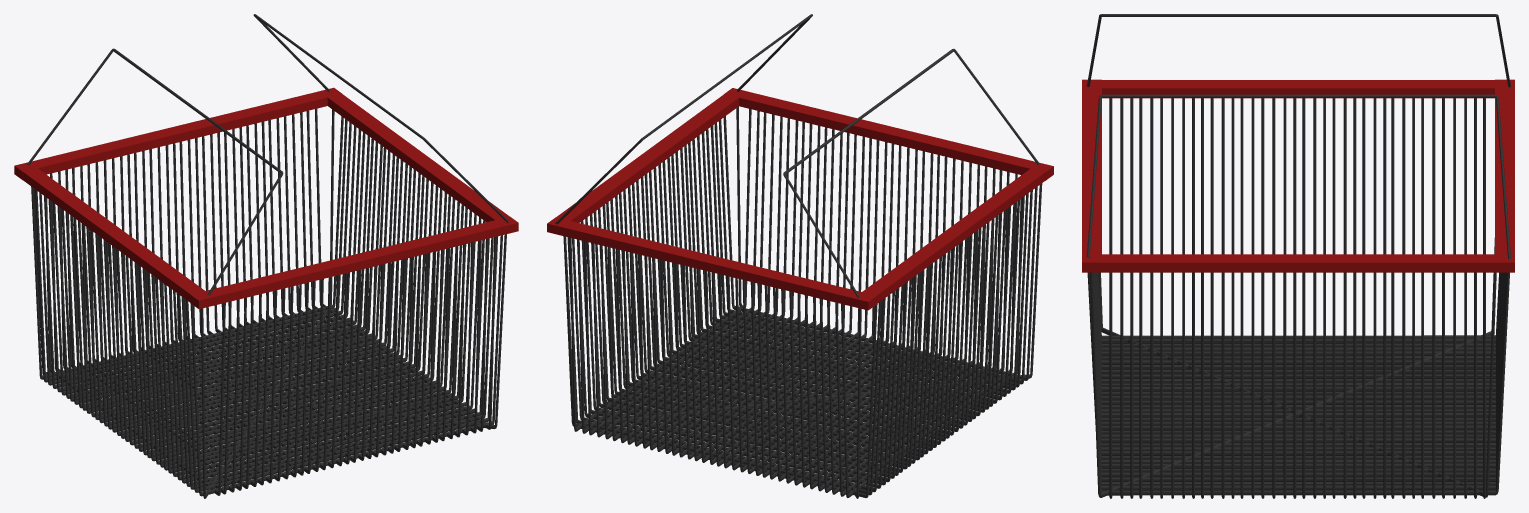
File: Shopping Basket.FBX
The picture shows the model from 3 angles, left to right: view 1: azimuth 30°, elevation 25°; view 2: azimuth 150°, elevation 25°; view 3: azimuth 270°, elevation 25°; orthographic projection. The views are drawn at different scales.
Visible parts, largest first — view 1: Box001, Box002, Box003, Box004, Cylinder073, Cylinder067, Cylinder072, Cylinder034, Cylinder031, Cylinder037, Cylinder070, Cylinder077 (+71 smaller); view 2: Box001, Box002, Box004, Box003, Cylinder073, Cylinder107, Cylinder075, Cylinder046, Cylinder067, Cylinder041, Cylinder072, Cylinder045 (+71 smaller); view 3: Box004, Box003, Box001, Box002, Cylinder103, Cylinder108, Cylinder107, Cylinder101, Cylinder104, Cylinder059, Cylinder106, Cylinder087 (+71 smaller).
Boxes of the visible parts, box(x1,y1,x2,y2) form: Box001: box(190, 217, 518, 308); Box002: box(14, 88, 341, 180); Box003: box(15, 163, 213, 309); Box004: box(319, 87, 518, 234); Cylinder073: box(190, 235, 502, 496); Cylinder067: box(159, 210, 471, 473); Cylinder072: box(181, 237, 493, 489); Cylinder034: box(103, 169, 415, 432); Cylinder031: box(116, 178, 428, 441); Cylinder037: box(142, 198, 455, 461); Cylinder070: box(151, 204, 463, 467); Cylinder077: box(39, 122, 351, 385); Box001: box(724, 88, 1053, 180); Box002: box(547, 217, 876, 310); Box004: box(547, 88, 746, 235); Box003: box(853, 169, 1044, 310); Cylinder073: box(723, 116, 1037, 380); Cylinder107: box(563, 183, 1042, 426); Cylinder075: box(701, 132, 1015, 396); Cylinder046: box(610, 199, 924, 463); Cylinder067: box(692, 139, 1006, 403); Cylinder041: box(658, 163, 972, 428); Cylinder072: box(714, 122, 1028, 387); Cylinder045: box(628, 186, 941, 450); Box004: box(1082, 254, 1514, 272); Box003: box(1102, 80, 1514, 98); Box001: box(1082, 79, 1101, 272); Box002: box(1495, 79, 1514, 272); Cylinder103: box(1087, 272, 1509, 495); Cylinder108: box(1086, 94, 1510, 259); Cylinder107: box(1098, 272, 1496, 497); Cylinder101: box(1096, 274, 1506, 477); Cylinder104: box(1098, 274, 1506, 490); Cylinder059: box(1095, 273, 1502, 400); Cylinder106: box(1090, 238, 1494, 497); Cylinder087: box(1096, 273, 1500, 374).
Bounding box in the file's own units: 105 × 96.68 × 105.
